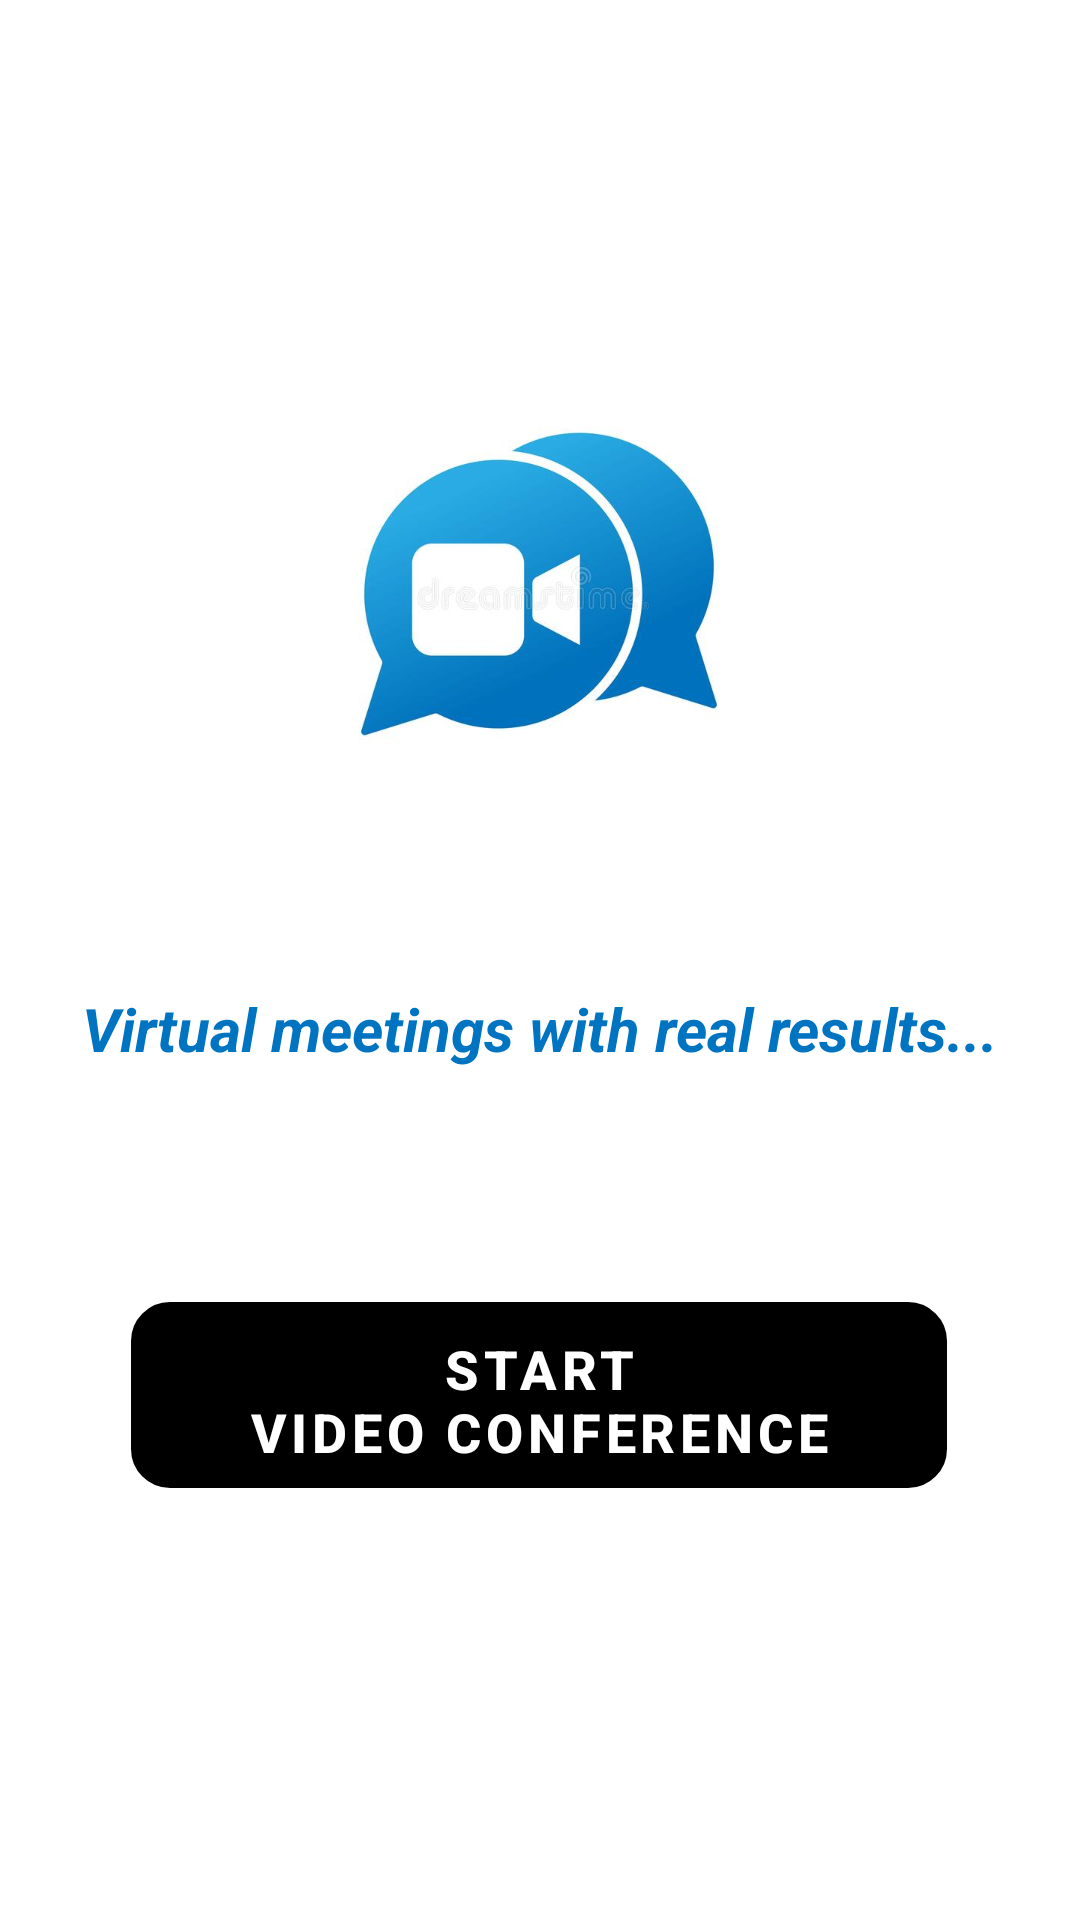

Where icons sit on this 1080 × 1920 app screen, as (x1, y1, x2, y2):
videocall: (360, 432, 718, 736)
